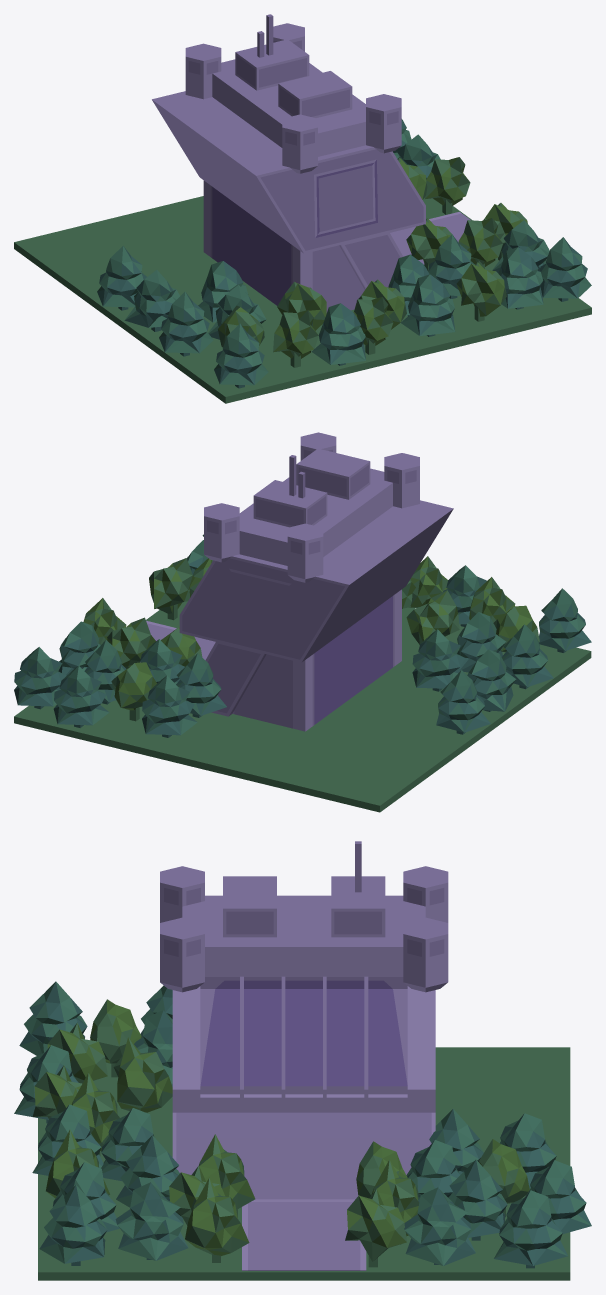
The model's file is ResearchCenter.fbx.
The picture shows the model from 3 angles, top to bottom: view 1: azimuth 30°, elevation 25°; view 2: azimuth 150°, elevation 25°; view 3: azimuth 270°, elevation 25°; orthographic projection. The views are drawn at different scales.
Visible parts, largest first — view 1: ResearchCenter(Ground), ResearchCenter; view 2: ResearchCenter(Ground), ResearchCenter; view 3: ResearchCenter(Ground), ResearchCenter.
Part boxes in pixels (x1,y1,x2,y2): ResearchCenter(Ground): (14,119,591,403); ResearchCenter: (152,14,425,312); ResearchCenter(Ground): (14,534,591,812); ResearchCenter: (179,432,453,731); ResearchCenter(Ground): (14,981,591,1280); ResearchCenter: (160,841,448,1201).
Size of the model in its own units: 187 by 115 by 189.
